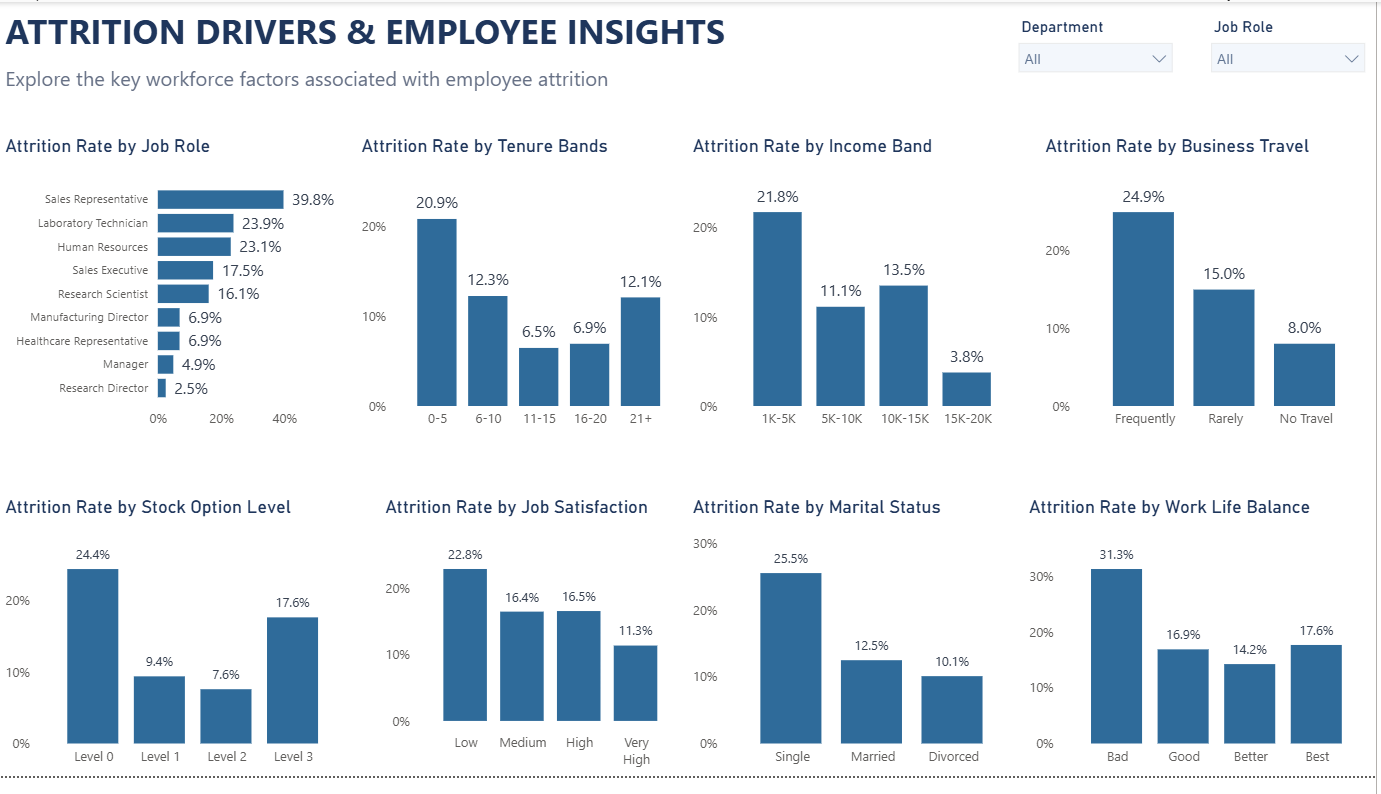

The dashboard page shown, as its layout file describes it:
{"tool":"powerbi","page":{"name":"Attrition Drivers","canvas":[1280,720],"ordinal":1},"visuals":[{"type":"clusteredBarChart","title":"Attrition Rate by Job Role","fields":{"Category":["WA_Fn-UseC_-HR-Employee-Attrition.JobRole"],"Y":["WA_Fn-UseC_-HR-Employee-Attrition.Attrition Rate"]},"box":[0,123.3,327.9,282.6],"z":0},{"type":"clusteredColumnChart","title":"Attrition Rate by Stock Option Level","fields":{"Y":["WA_Fn-UseC_-HR-Employee-Attrition.Attrition Rate"],"Category":["WA_Fn-UseC_-HR-Employee-Attrition.Stock Option Level Label"]},"box":[0,459.3,327.9,260.5],"z":1000},{"type":"clusteredColumnChart","fields":{"Category":["WA_Fn-UseC_-HR-Employee-Attrition.Tenure Bands"],"Y":["WA_Fn-UseC_-HR-Employee-Attrition.Attrition Rate"]},"box":[331.4,123.3,308.1,282.6],"z":2000},{"type":"clusteredColumnChart","title":"Attrition Rate by Job Satisfaction","fields":{"Y":["WA_Fn-UseC_-HR-Employee-Attrition.Attrition Rate"],"Category":["WA_Fn-UseC_-HR-Employee-Attrition.Job Satisfaction Label"]},"box":[353.5,459.3,286,260.5],"z":3000},{"type":"clusteredColumnChart","fields":{"Category":["WA_Fn-UseC_-HR-Employee-Attrition.Income Band"],"Y":["WA_Fn-UseC_-HR-Employee-Attrition.Attrition Rate"]},"box":[639.5,123.3,312.8,282.6],"z":4000},{"type":"clusteredColumnChart","title":"Attrition Rate by Marital Status","fields":{"Category":["WA_Fn-UseC_-HR-Employee-Attrition.MaritalStatus"],"Y":["WA_Fn-UseC_-HR-Employee-Attrition.Attrition Rate"]},"box":[639.5,459.3,312.8,260.5],"z":5000},{"type":"clusteredColumnChart","title":"Attrition Rate by Business Travel","fields":{"Category":["WA_Fn-UseC_-HR-Employee-Attrition.Business Travel Label"],"Y":["WA_Fn-UseC_-HR-Employee-Attrition.Attrition Rate"]},"box":[967.4,123.3,312.8,282.6],"z":6000},{"type":"clusteredColumnChart","title":"Attrition Rate by Work Life Balance","fields":{"Y":["WA_Fn-UseC_-HR-Employee-Attrition.Attrition Rate"],"Category":["WA_Fn-UseC_-HR-Employee-Attrition.Work Life Balance Label"]},"box":[952.3,459.3,327.9,260.5],"z":8000},{"type":"textbox","box":[0,0,688.4,53.5],"z":8001},{"type":"textbox","box":[0,53.5,601.2,36],"z":8002},{"type":"slicer","fields":{"Values":["WA_Fn-UseC_-HR-Employee-Attrition.Department"]},"box":[937.2,9.3,163.8,88.8],"z":8003},{"type":"slicer","fields":{"Values":["WA_Fn-UseC_-HR-Employee-Attrition.JobRole"]},"box":[1116.3,9.3,163.8,88.8],"z":8004}]}

Visuals, with their boxes in screenshot pixels (x1, y1, x2, y2), scaled from the page's 1280x720 canvas onto the 1381x794 screenshot:
"Attrition Rate by Job Role" clusteredBarChart: (0,136,354,448)
"Attrition Rate by Stock Option Level" clusteredColumnChart: (0,507,354,793)
clusteredColumnChart - WA_Fn-UseC_-HR-Employee-Attrition.Tenure Bands x WA_Fn-UseC_-HR-Employee-Attrition.Attrition Rate: (358,136,690,448)
"Attrition Rate by Job Satisfaction" clusteredColumnChart: (381,507,690,793)
clusteredColumnChart - WA_Fn-UseC_-HR-Employee-Attrition.Income Band x WA_Fn-UseC_-HR-Employee-Attrition.Attrition Rate: (690,136,1027,448)
"Attrition Rate by Marital Status" clusteredColumnChart: (690,507,1027,793)
"Attrition Rate by Business Travel" clusteredColumnChart: (1044,136,1380,448)
"Attrition Rate by Work Life Balance" clusteredColumnChart: (1027,507,1380,793)
textbox: (0,0,743,59)
textbox: (0,59,649,99)
slicer - WA_Fn-UseC_-HR-Employee-Attrition.Department: (1011,10,1188,108)
slicer - WA_Fn-UseC_-HR-Employee-Attrition.JobRole: (1204,10,1380,108)
